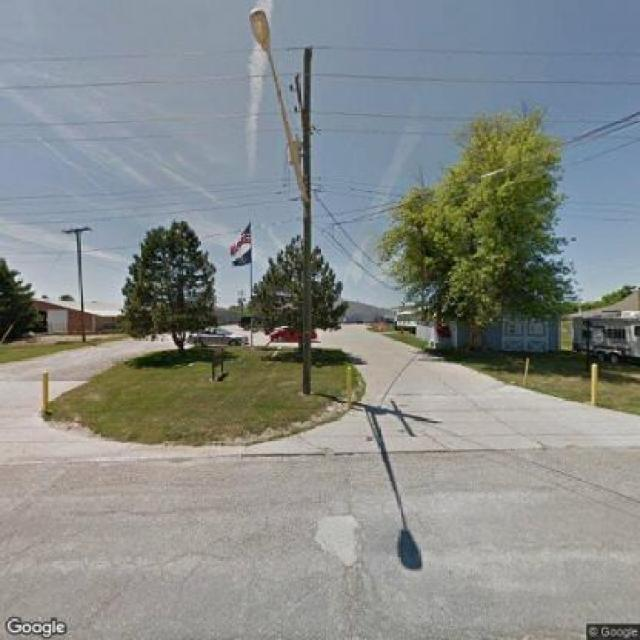pole: (286, 37, 336, 398), (60, 222, 97, 338)
